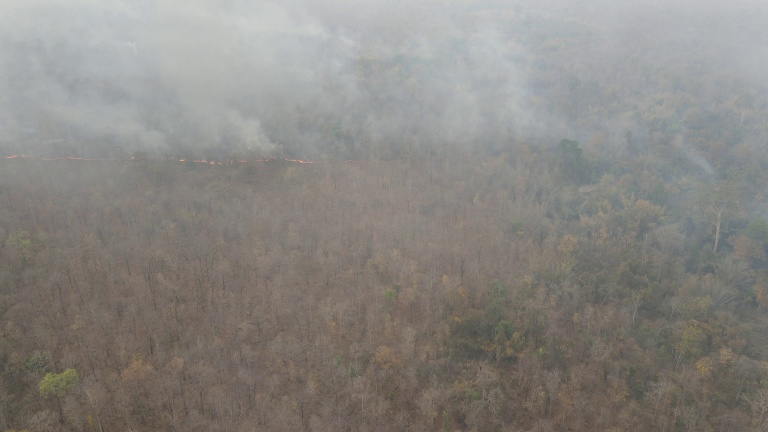fire: (2, 147, 324, 168)
smoke: (2, 1, 565, 157), (586, 1, 768, 198)
